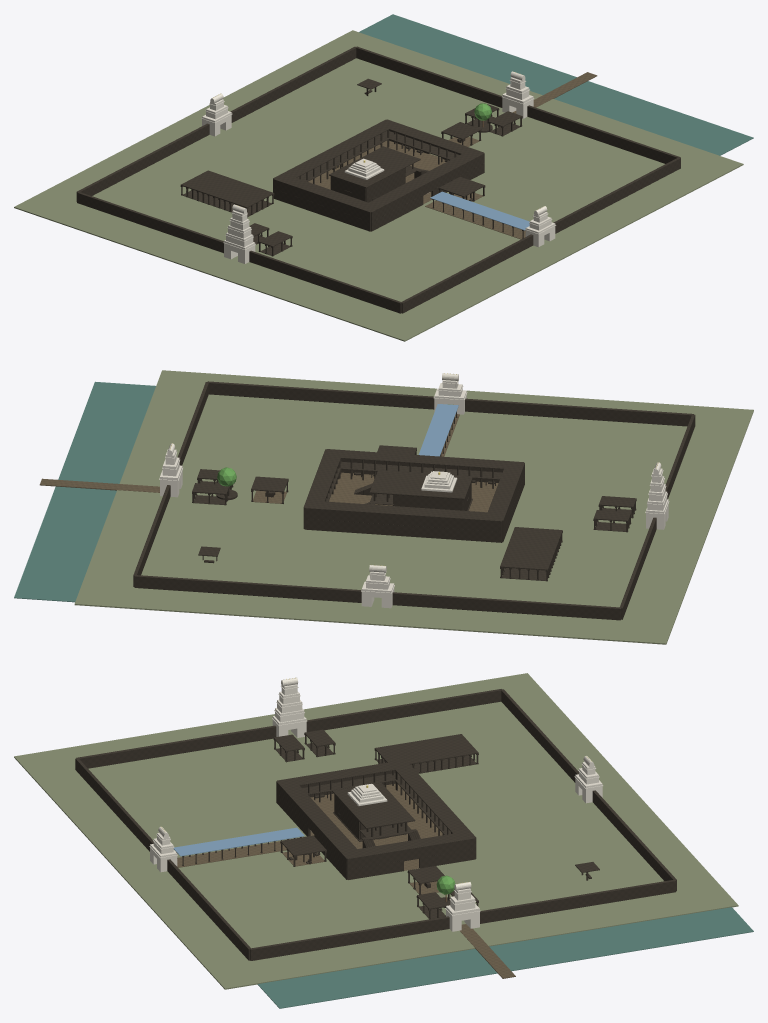
File: draksharama_manikyamba_kshetra_full.glb
The picture shows the model from 3 angles, top to bottom: view 1: azimuth 30°, elevation 25°; view 2: azimuth 150°, elevation 25°; view 3: azimuth 270°, elevation 25°; orthographic projection. The views are drawn at different scales.
Parts seen in each view (by area): view 1: Ground_Outer_Prakara, Sapta_Godavari_Tank, Outer_Prakara_West, Outer_Prakara_East.001, Outer_Prakara_West.001, Outer_Prakara_East, Outer_Prakara_South, Northwest_Pillared_Mandapa_Roof, Outer_Prakara_North, Outer_Prakara_South.001, Outer_Prakara_North.001, Bhimeswara_Roof (+15 smaller); view 2: Ground_Outer_Prakara, Sapta_Godavari_Tank, Outer_Prakara_North, Outer_Prakara_North.001, Outer_Prakara_South.001, Outer_Prakara_South, North_Prakara_Wall, North_Prakara_Wall.001, Northwest_Pillared_Mandapa_Roof, Bhimeswara_Roof, South_Gallery_Cornice.001, North_Gallery_Cornice.001 (+13 smaller); view 3: Ground_Outer_Prakara, Sapta_Godavari_Tank, Outer_Prakara_East, Outer_Prakara_East.001, Outer_Prakara_West, Outer_Prakara_West.001, Inner_Court_Paving, Northwest_Pillared_Mandapa_Roof, Bhimeswara_Roof, South_Gallery_Cornice.001, North_Gallery_Cornice.001, East_Prakara_Wall.002 (+15 smaller).
Part boxes in pixels (x1,y1,x2,y2): Ground_Outer_Prakara: [14, 30, 743, 341]; Sapta_Godavari_Tank: [359, 14, 753, 155]; Outer_Prakara_West: [249, 250, 401, 313]; Outer_Prakara_East.001: [356, 46, 502, 107]; Outer_Prakara_West.001: [77, 192, 223, 253]; Outer_Prakara_East: [527, 105, 680, 163]; Outer_Prakara_South: [401, 234, 533, 313]; Northwest_Pillared_Mandapa_Roof: [181, 170, 274, 207]; Outer_Prakara_North: [76, 123, 209, 201]; Outer_Prakara_South.001: [553, 157, 680, 233]; Outer_Prakara_North.001: [230, 46, 356, 122]; Bhimeswara_Roof: [329, 146, 420, 188]; Ground_Outer_Prakara: [74, 370, 753, 644]; Sapta_Godavari_Tank: [14, 381, 155, 602]; Outer_Prakara_North: [392, 592, 620, 620]; Outer_Prakara_North.001: [134, 575, 361, 602]; Outer_Prakara_South.001: [207, 381, 434, 409]; Outer_Prakara_South: [465, 398, 693, 426]; North_Prakara_Wall: [304, 519, 501, 542]; North_Prakara_Wall.001: [304, 508, 501, 531]; Northwest_Pillared_Mandapa_Roof: [500, 527, 562, 570]; Bhimeswara_Roof: [369, 470, 472, 499]; South_Gallery_Cornice.001: [327, 449, 523, 469]; North_Gallery_Cornice.001: [304, 501, 504, 521]; Ground_Outer_Prakara: [14, 673, 738, 989]; Sapta_Godavari_Tank: [257, 907, 753, 1008]; Outer_Prakara_East: [250, 916, 449, 960]; Outer_Prakara_East.001: [480, 880, 675, 923]; Outer_Prakara_West: [76, 725, 276, 768]; Outer_Prakara_West.001: [306, 689, 501, 731]; Inner_Court_Paving: [310, 783, 442, 870]; Northwest_Pillared_Mandapa_Roof: [374, 734, 478, 764]; Bhimeswara_Roof: [332, 783, 415, 828]; South_Gallery_Cornice.001: [276, 778, 359, 859]; North_Gallery_Cornice.001: [389, 760, 475, 840]; East_Prakara_Wall.002: [347, 838, 475, 869].
Size of the model in its own units: 226 by 18.41 by 211.
Materials: 15 (2 with a texture image).
